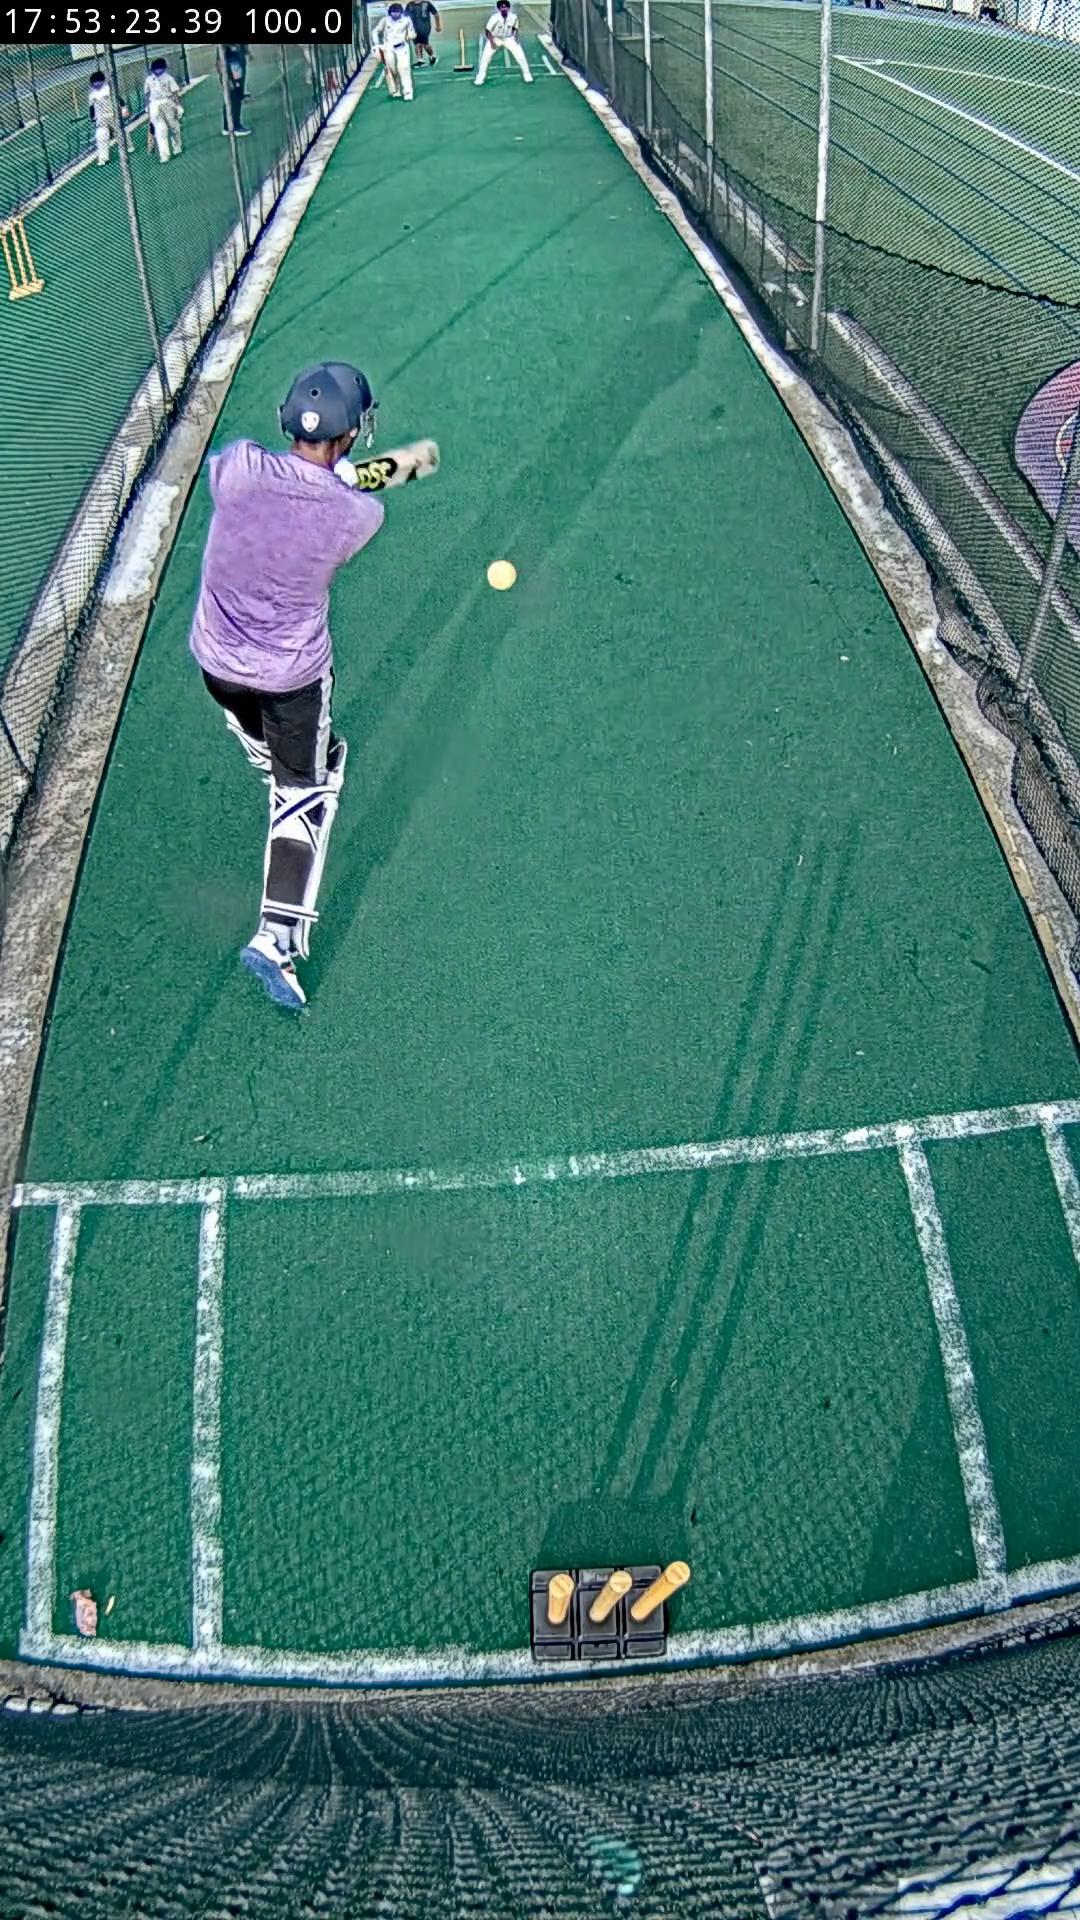ball: (488, 570, 506, 585)
bat: (352, 439, 439, 492)
gloves: (334, 458, 356, 488)
helmet: (277, 360, 375, 443)
pads: (303, 738, 348, 920)
stumps: (529, 1560, 690, 1665)
